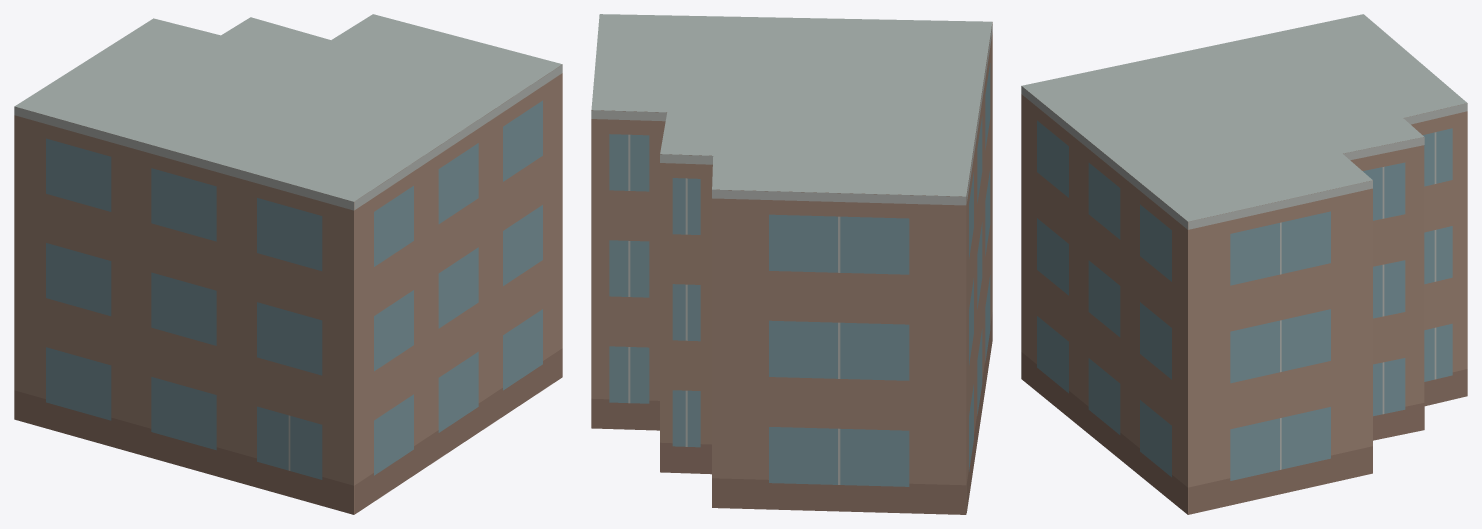
File: survey-upis-32787512.glb
3 renders of one model, left to right at view 1: azimuth 30°, elevation 25°; view 2: azimuth 150°, elevation 25°; view 3: azimuth 270°, elevation 25°, orthographic. The views are drawn at different scales.
Parts seen in each view (by area): view 1: survey-upis-32787512.tmp; view 2: survey-upis-32787512.tmp; view 3: survey-upis-32787512.tmp.
Boxes of the visible parts, x1,y1,x2,y2 form: survey-upis-32787512.tmp: (14,14,562,514); survey-upis-32787512.tmp: (591,14,992,514); survey-upis-32787512.tmp: (1021,14,1467,514).
Bounding box in the file's own units: 13.23 × 8.7 × 12.01.
